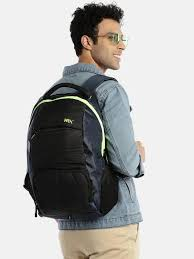backpack: (22, 71, 130, 220)
